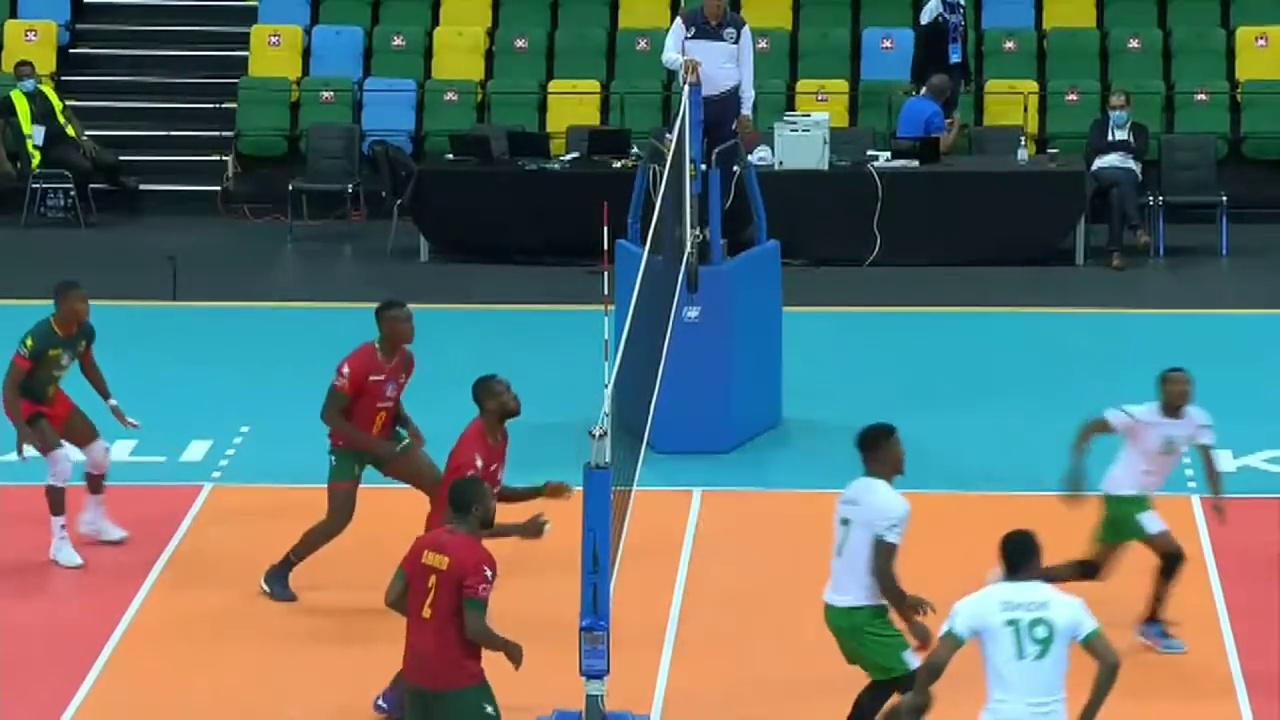player: (1021, 347, 1215, 659), (255, 295, 445, 607), (374, 376, 529, 716), (879, 530, 1118, 720), (367, 479, 544, 720), (6, 278, 145, 566), (822, 423, 942, 720)
refree: (657, 0, 766, 225)
